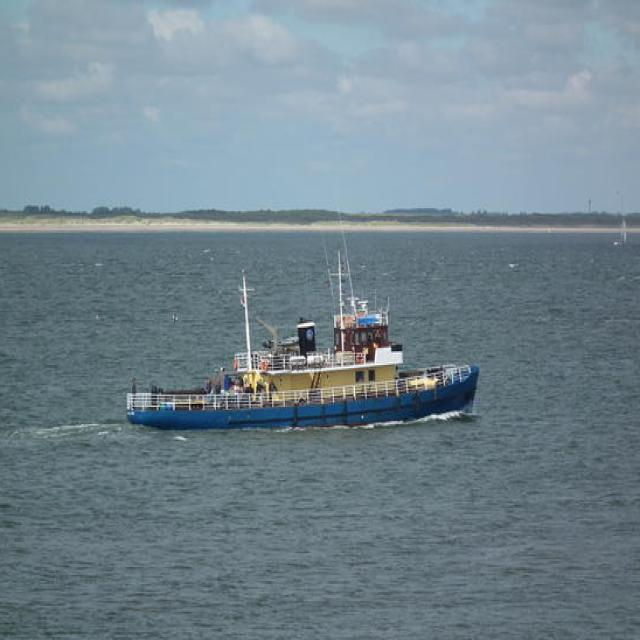fishing boat: (124, 289, 480, 430)
